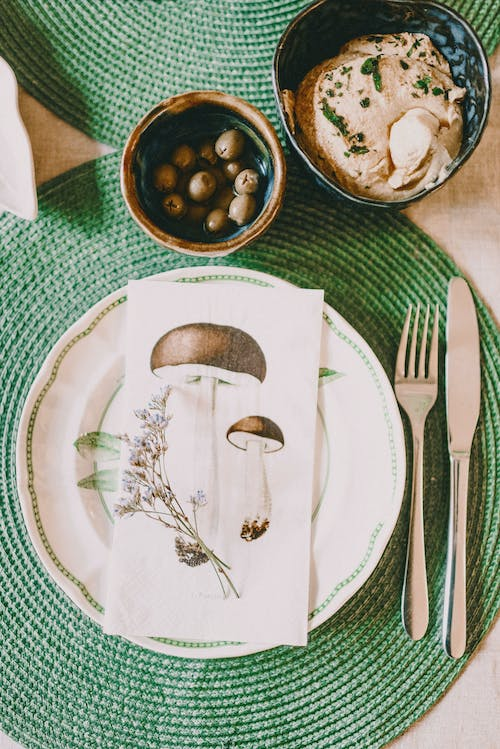knife: (441, 275, 483, 661)
